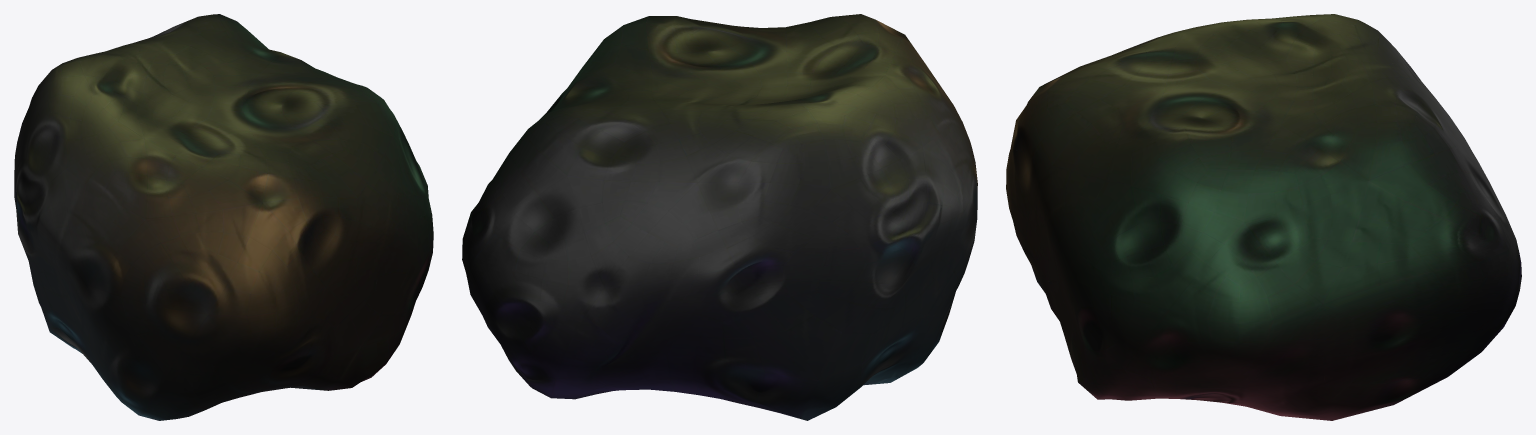
3 renders of one model, left to right at view 1: azimuth 30°, elevation 25°; view 2: azimuth 150°, elevation 25°; view 3: azimuth 270°, elevation 25°, orthographic. The views are drawn at different scales.
Parts seen in each view (by area): view 1: Obstacle; view 2: Obstacle; view 3: Obstacle.
Part boxes in pixels (x1,y1,x2,y2): Obstacle: [14, 14, 433, 420]; Obstacle: [462, 14, 977, 420]; Obstacle: [1006, 14, 1521, 420].
Size of the model in its own units: 5.47 by 3.96 by 6.04.
1 material, 1 textured.
